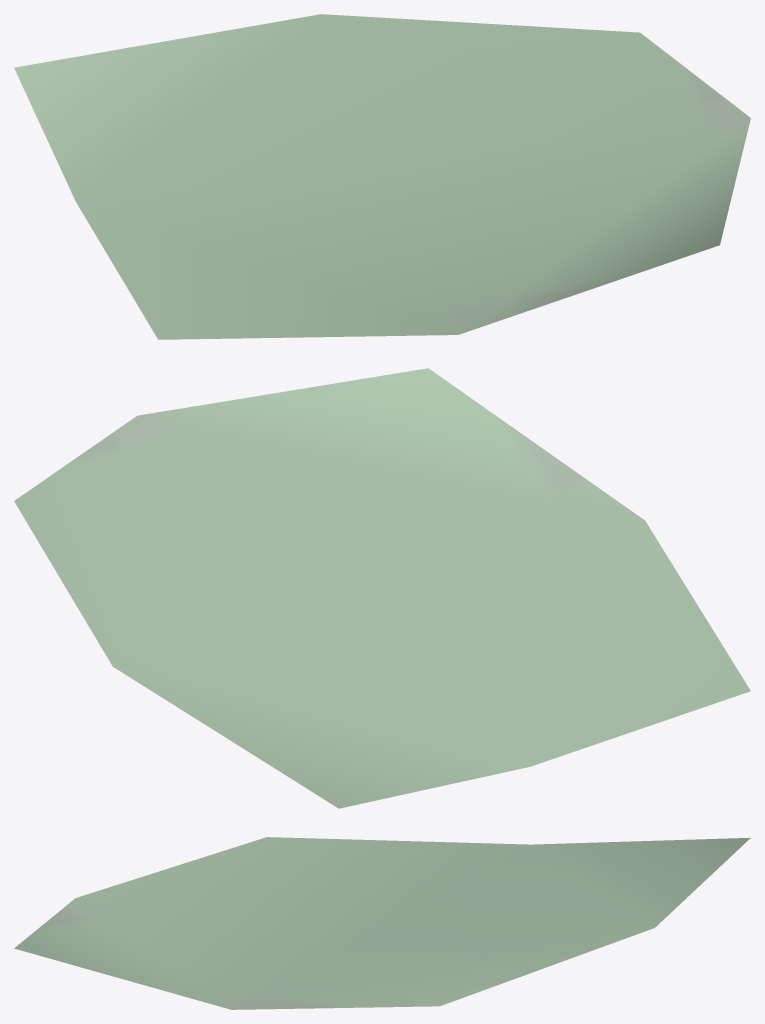
Rendered from TROLLHOLE02_HOLECAP169.fbx.
3 views of the same model, one above another, from view 1: azimuth 30°, elevation 25°; view 2: azimuth 150°, elevation 25°; view 3: azimuth 270°, elevation 25° (orthographic). The views are drawn at different scales.
Parts seen in each view (by area): view 1: TROLLHOLE02_HOLECAP169; view 2: TROLLHOLE02_HOLECAP169; view 3: TROLLHOLE02_HOLECAP169.
Part boxes in pixels (x1,y1,x2,y2): TROLLHOLE02_HOLECAP169: (14,14,750,339); TROLLHOLE02_HOLECAP169: (14,368,750,808); TROLLHOLE02_HOLECAP169: (14,837,750,1009).
Size of the model in its own units: 32403 by 5364 by 38452.
1 material, 1 textured.
